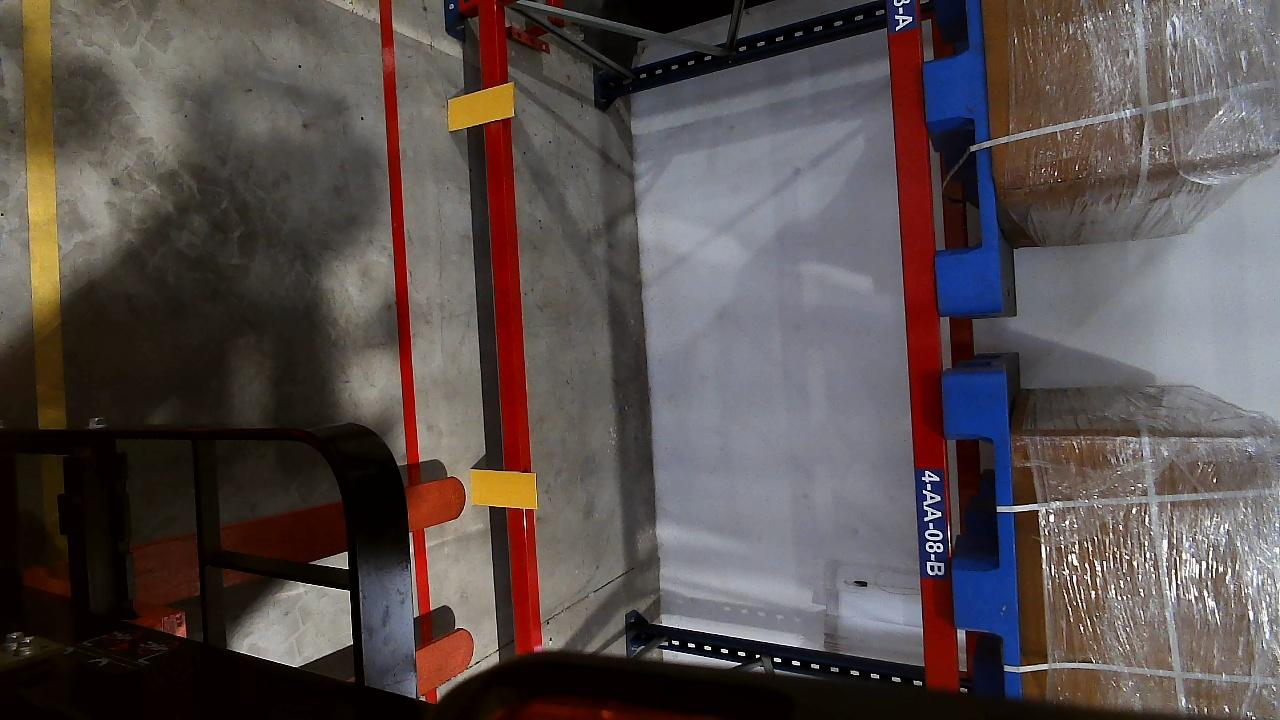h_rack: (882, 0, 952, 598), (473, 16, 535, 653)
orange_strip: (447, 83, 514, 130), (467, 469, 537, 509)
red_line: (379, 0, 422, 602)
small_pallet: (916, 0, 1007, 309), (943, 376, 1025, 687)
yellow_line: (19, 1, 65, 428)
